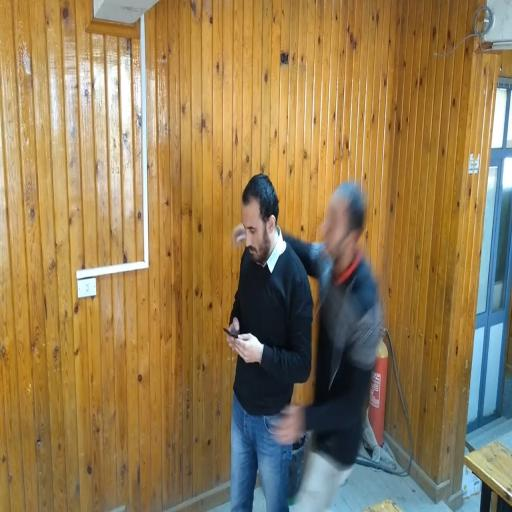nao-violencia: (215, 154, 382, 510)
